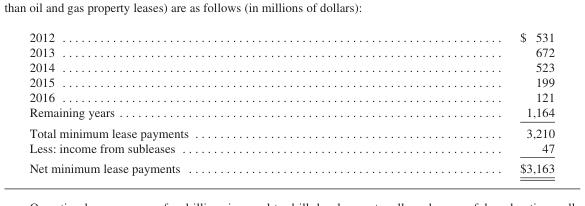table: (28, 29, 553, 174)
table column: (28, 29, 353, 174), (353, 29, 553, 174)
table row: (28, 104, 553, 122), (28, 139, 553, 157), (28, 122, 553, 139), (28, 157, 553, 174), (28, 29, 553, 44), (28, 44, 553, 59), (28, 59, 553, 74), (28, 74, 553, 89), (28, 89, 553, 104)
